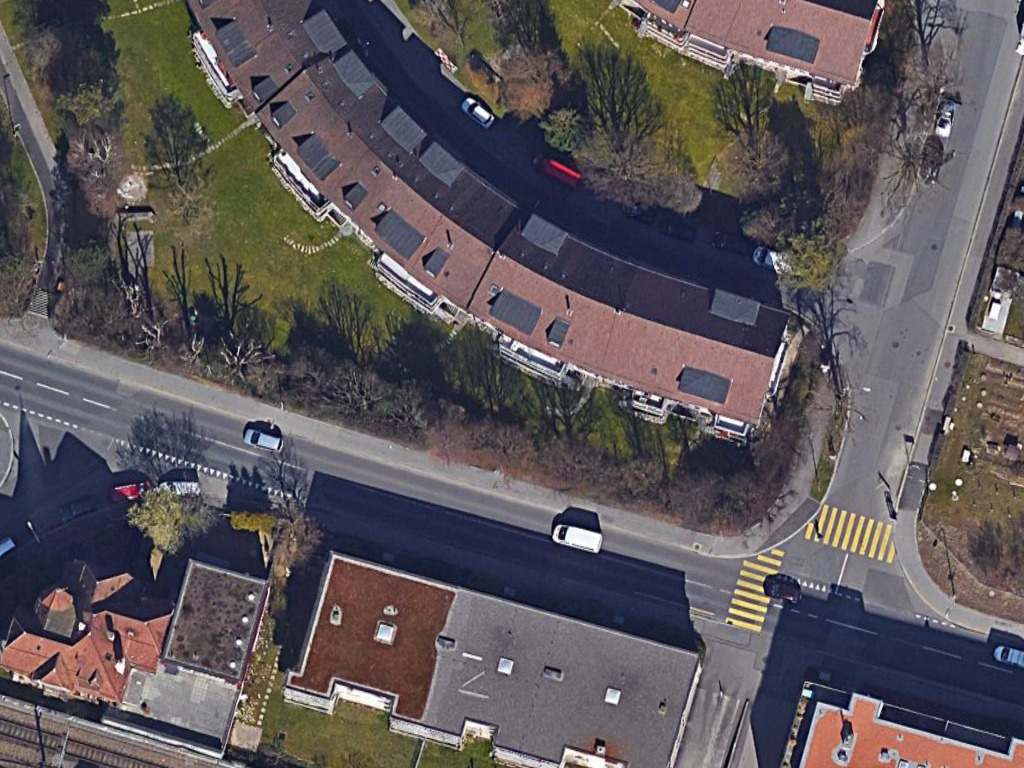car: (453, 90, 498, 130), (241, 422, 291, 457)
van: (523, 149, 586, 195), (545, 516, 607, 560)
